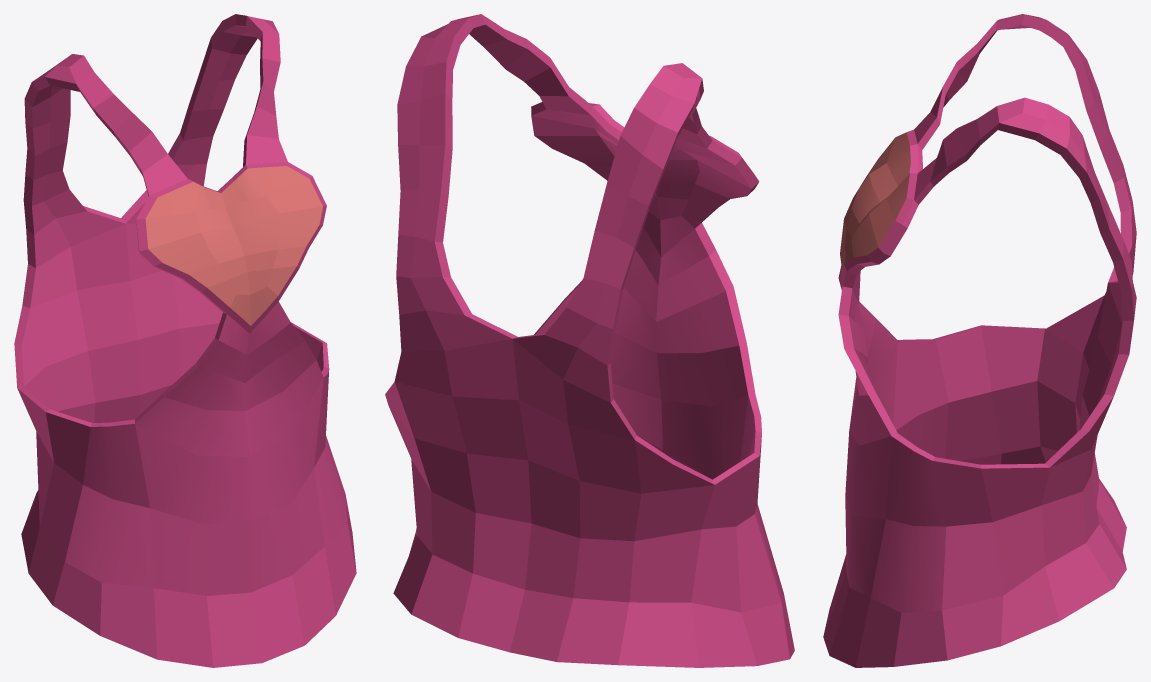
File: cupidtop.fbx
3 views of the same model, side by side, from view 1: azimuth 30°, elevation 25°; view 2: azimuth 150°, elevation 25°; view 3: azimuth 270°, elevation 25° (orthographic). The views are drawn at different scales.
Visible parts, largest first — view 1: polySurface1; view 2: polySurface1; view 3: polySurface1.
Part boxes in pixels (x1,y1,x2,y2): polySurface1: (14, 14, 356, 667); polySurface1: (385, 14, 794, 667); polySurface1: (823, 14, 1136, 667).
Bounding box in the file's own units: 0.8258 × 1.47 × 0.7166.
